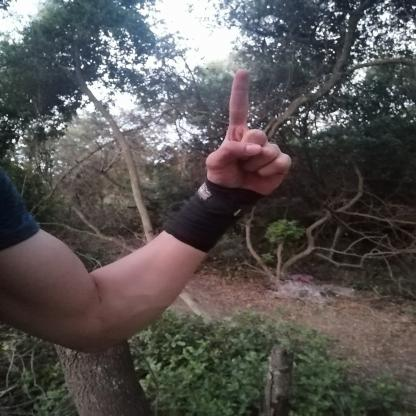BAA: (195, 51, 301, 206)
